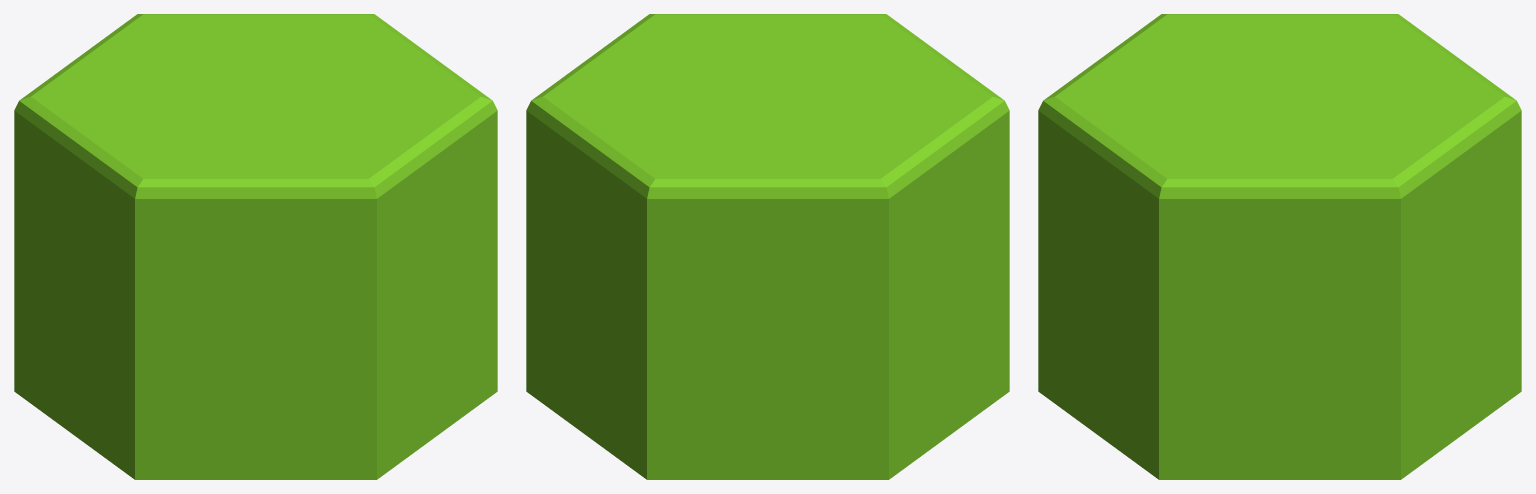
File: Hex Tile Grass 03.glb
3 views of the same model, side by side, from view 1: azimuth 30°, elevation 25°; view 2: azimuth 150°, elevation 25°; view 3: azimuth 270°, elevation 25° (orthographic).
Visible parts, largest first — view 1: body.003; view 2: body.003; view 3: body.003.
Part boxes in pixels (x1,y1,x2,y2): body.003: (14,14,497,479); body.003: (526,14,1009,479); body.003: (1038,14,1521,479).
Bounding box in the file's own units: 1.65 × 1.28 × 1.9.
